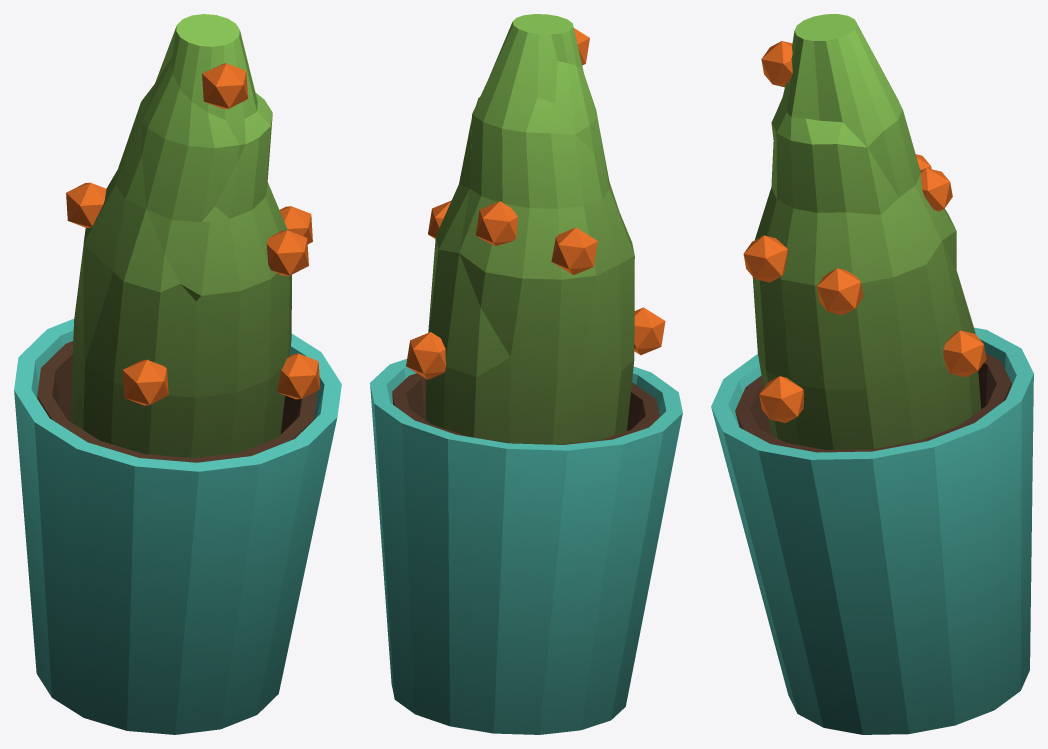
The model's file is cactus-Bomx0quU.glb.
3 renders of one model, left to right at view 1: azimuth 30°, elevation 25°; view 2: azimuth 150°, elevation 25°; view 3: azimuth 270°, elevation 25°, orthographic. The views are drawn at different scales.
Parts seen in each view (by area): view 1: cacti.001; view 2: cacti.001; view 3: cacti.001.
Part boxes in pixels (bbox=[...]): cacti.001: bbox=[14, 14, 341, 734]; cacti.001: bbox=[370, 14, 682, 734]; cacti.001: bbox=[711, 14, 1033, 734].
Size of the model in its own units: 0.459 by 1.05 by 0.4561.
1 material, 1 textured.
